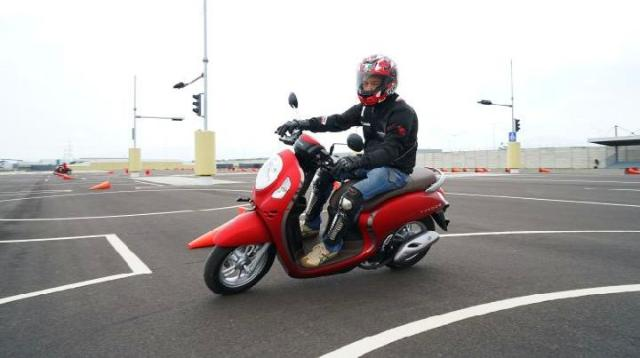helm: (353, 53, 401, 109)
motor: (202, 90, 452, 300)
